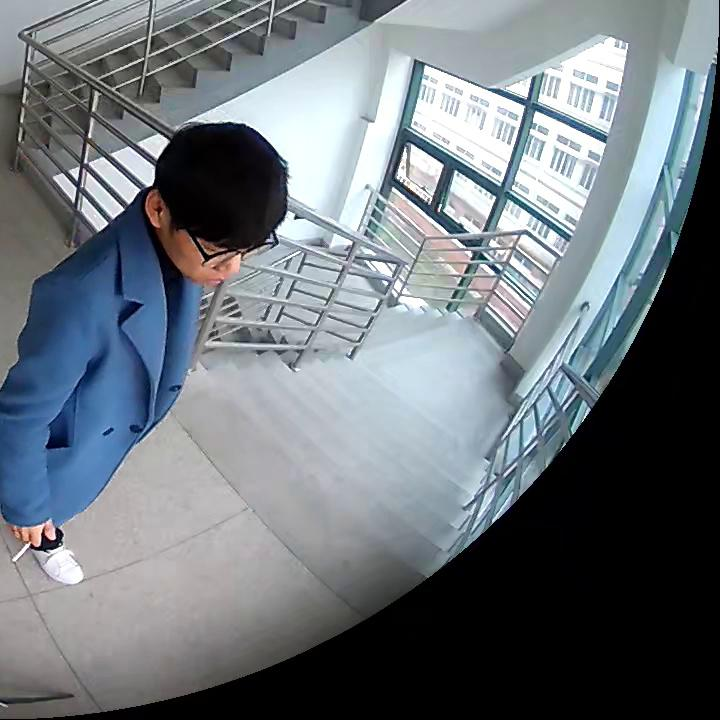handsmoke: (12, 527, 53, 564)
mouthwithoutsmoke: (145, 120, 286, 285)
